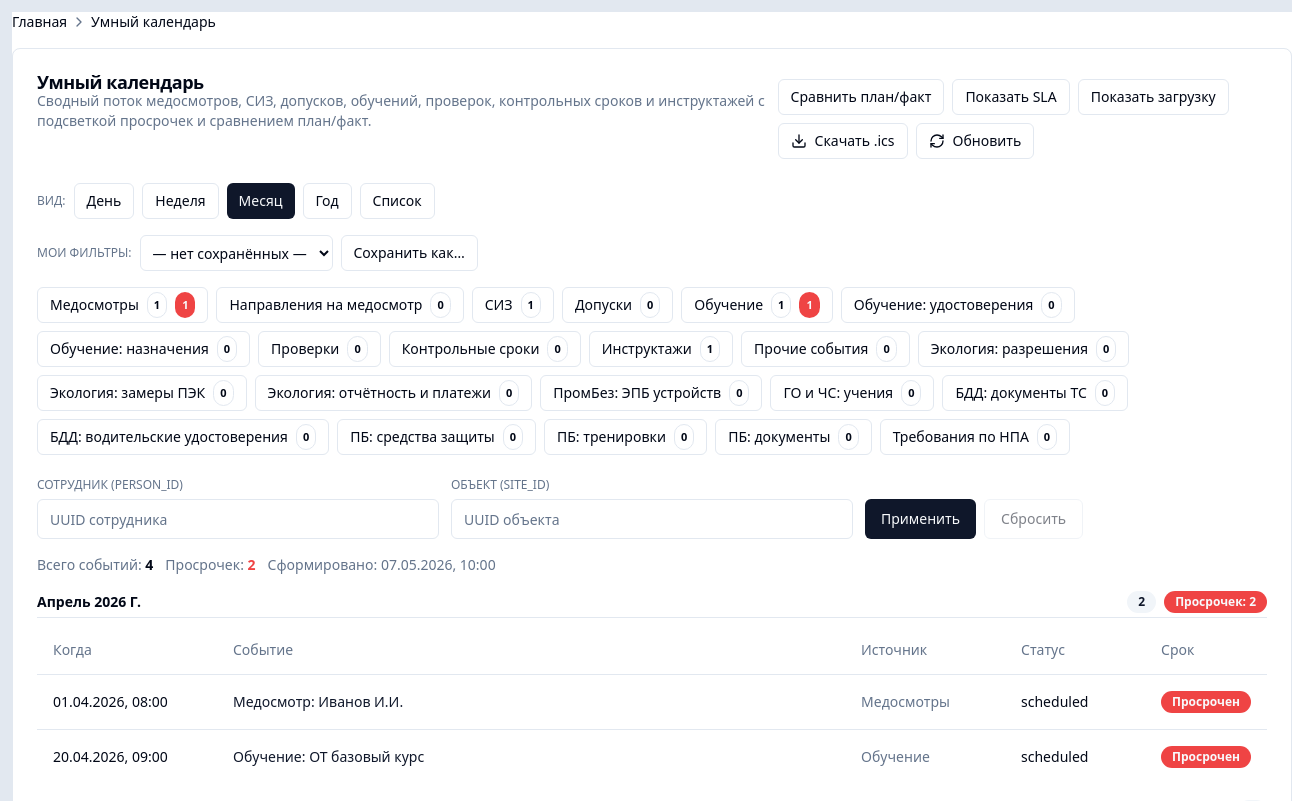
CalendarPage › shows ICS error message when download fails
The image size is (1292, 801).
Check: the link "Медосмотр: Иванов И.И." is shown, box [233,692,403,710]
Click the button "Скачать .ics" at {"x": 843, "y": 141}, box [778,123,908,159]
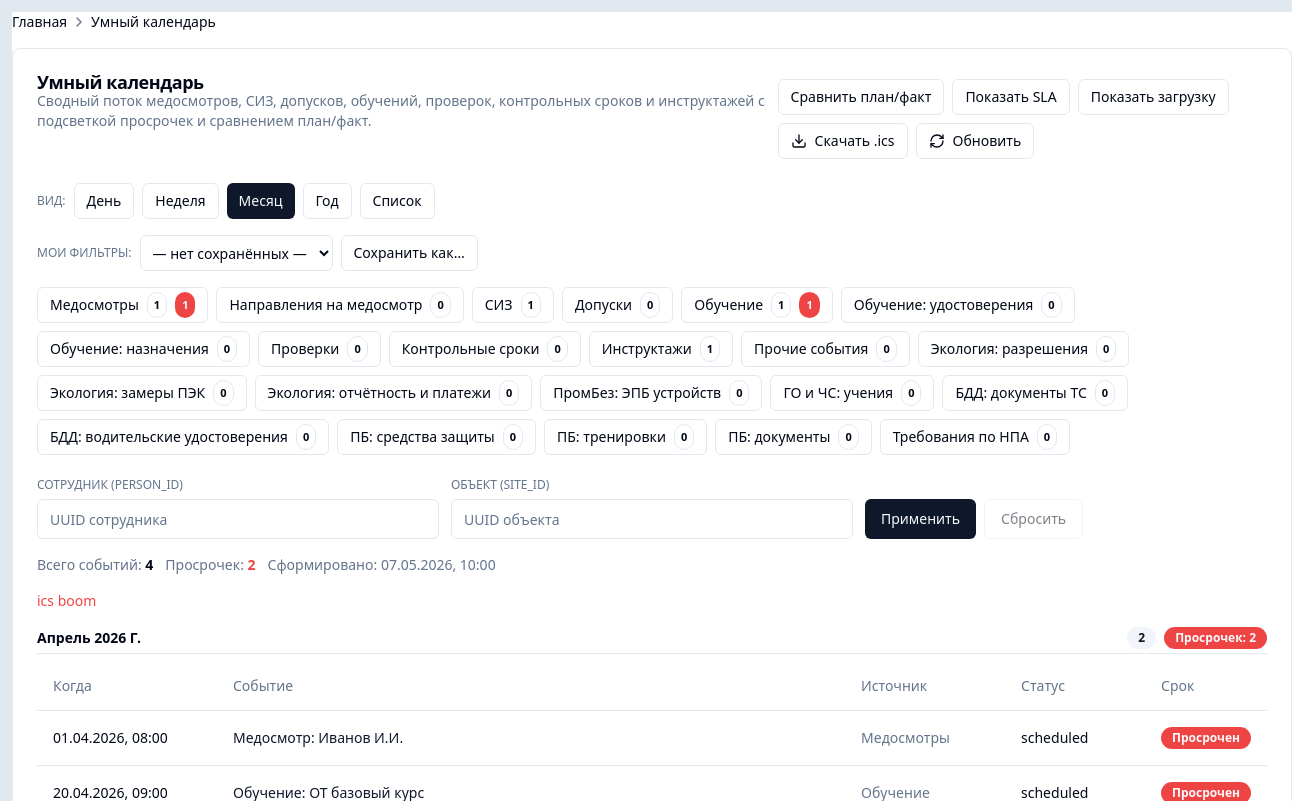
Check: the text "ics boom" is shown, box [37,591,96,610]
